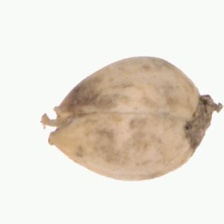L1: (190, 92, 213, 156), (39, 103, 68, 146)
L2: (40, 55, 213, 181)
